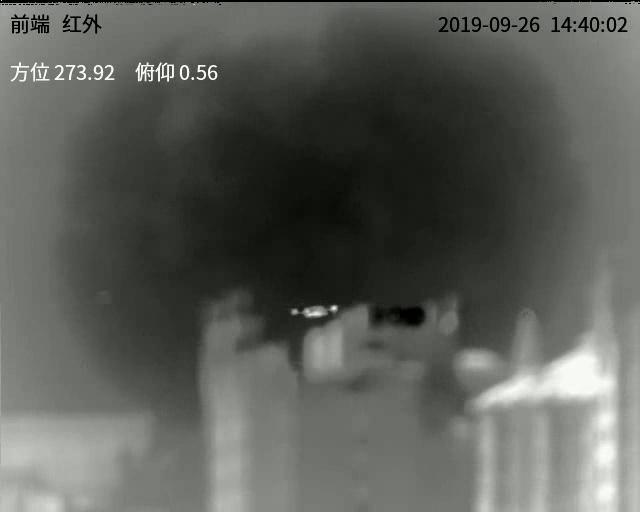DRONE: (290, 302, 341, 319)
